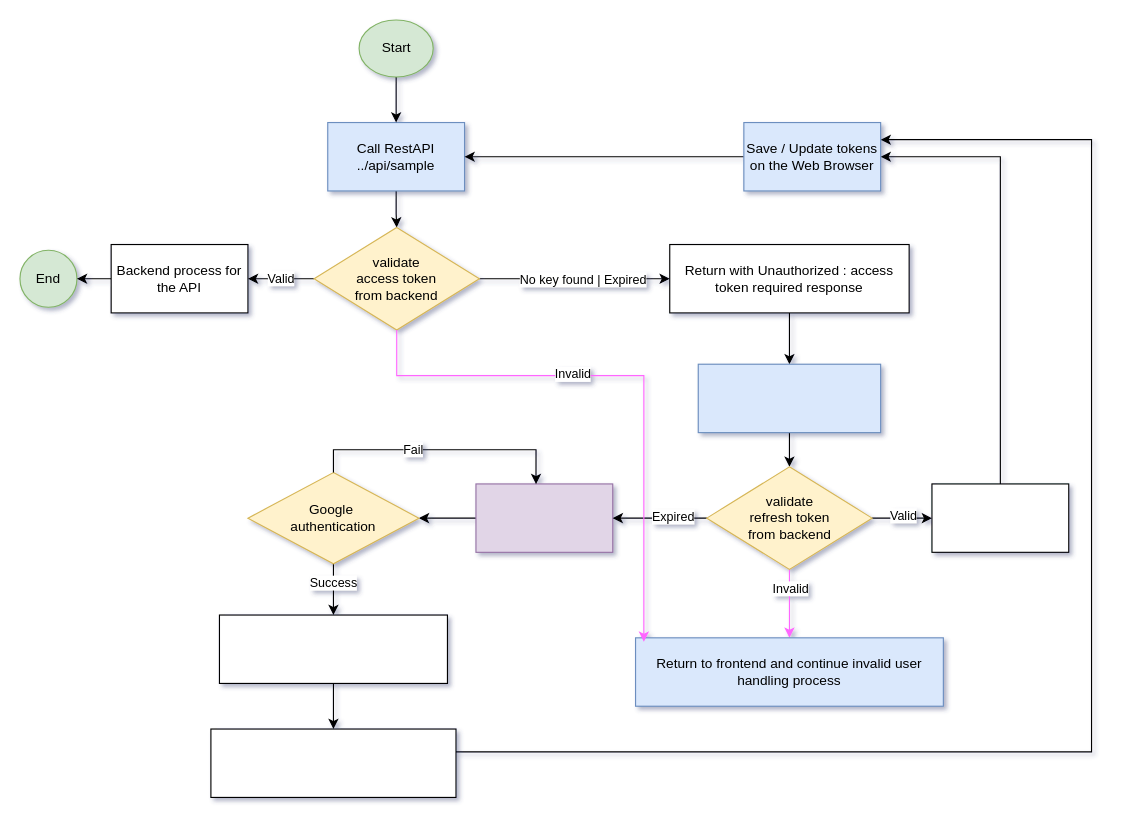
Image size: 1127x824. Some labels were removed from this diagram. The centre of each missing label's shape, as x and y in pixels:
"Call RestAPI ../access-token/refresh" belongs at point (789, 398).
"Create a new access token and a refresh token and return" belongs at point (333, 762).
"create new access token and return" belongs at point (1000, 517).
"Redirect to `login/oauth2/code/google` RestAPI" belongs at point (332, 648).
"Redirect to the google login process" belongs at point (544, 517).
